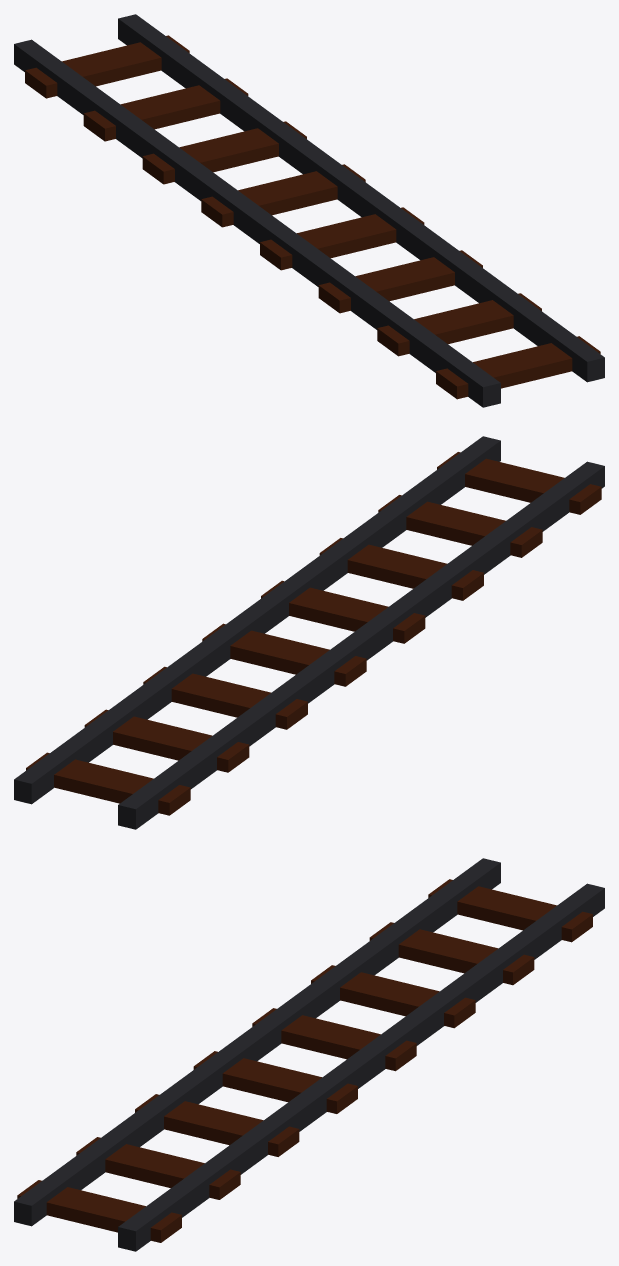
The model's file is Train_tracks_good.FBX.
3 renders of one model, top to bottom at view 1: azimuth 30°, elevation 25°; view 2: azimuth 150°, elevation 25°; view 3: azimuth 330°, elevation 25°, orthographic.
Visible parts, largest first — view 1: Box014; view 2: Box014; view 3: Box014.
Part boxes in pixels (bbox=[...]): Box014: bbox=[14, 14, 604, 407]; Box014: bbox=[14, 436, 604, 829]; Box014: bbox=[14, 858, 604, 1251].
Size of the model in its own units: 21.14 by 2.88 by 120.
